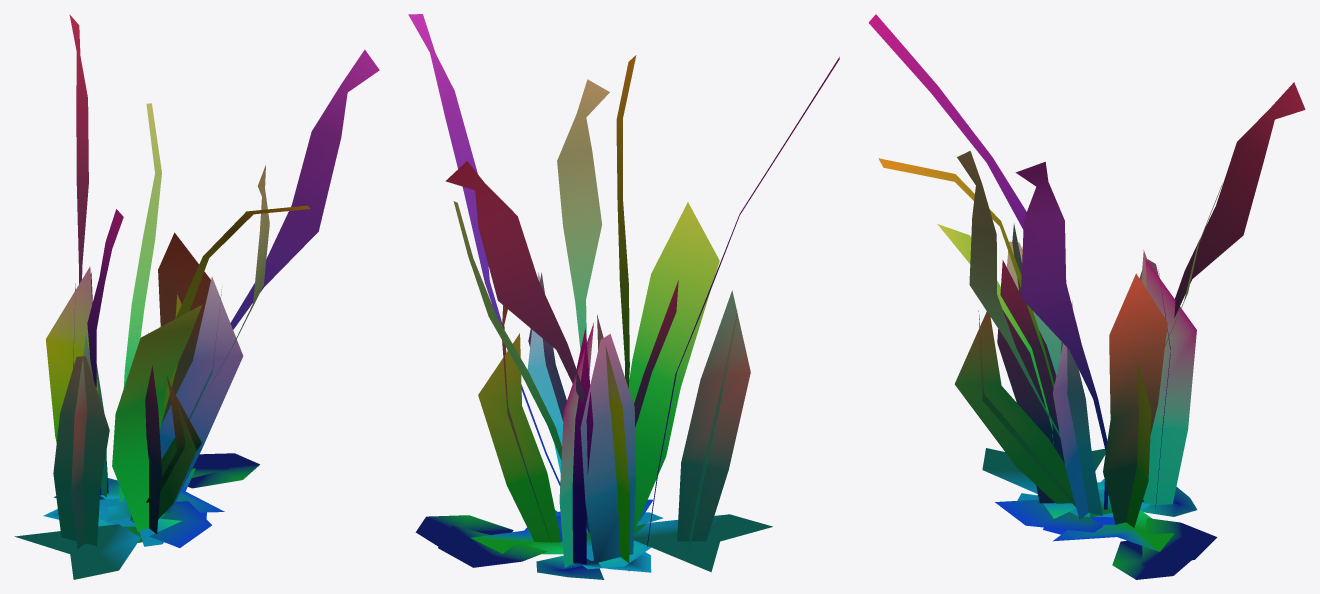
The model's file is uddmcgbia_VarI_LOD0.fbx.
3 views of the same model, side by side, from view 1: azimuth 30°, elevation 25°; view 2: azimuth 150°, elevation 25°; view 3: azimuth 270°, elevation 25° (orthographic). The views are drawn at different scales.
Parts seen in each view (by area): view 1: _0e87_VarI_LOD1; view 2: _0e87_VarI_LOD1; view 3: _0e87_VarI_LOD1.
Boxes of the visible parts, x1=… form: _0e87_VarI_LOD1: x1=14, y1=14, x2=379, y2=579; _0e87_VarI_LOD1: x1=408, y1=14, x2=839, y2=579; _0e87_VarI_LOD1: x1=868, y1=14, x2=1305, y2=579.
Size of the model in its own units: 24.38 by 31.3 by 26.86.
